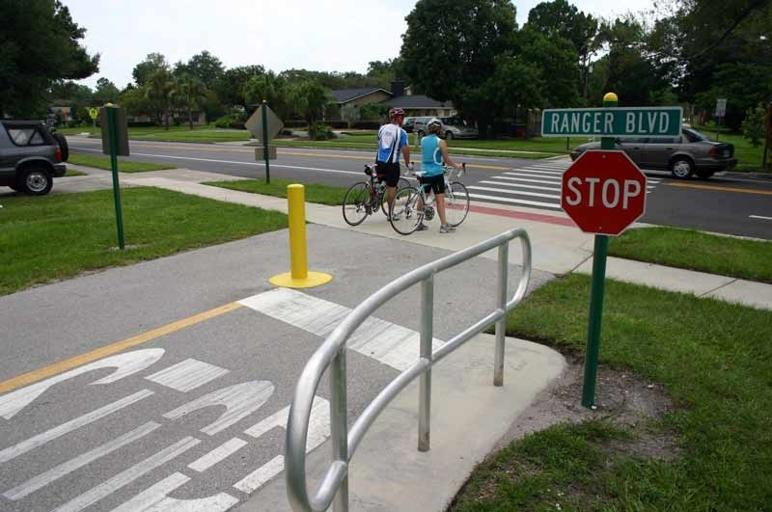non-vehicle: (386, 162, 473, 236), (344, 158, 415, 227)
